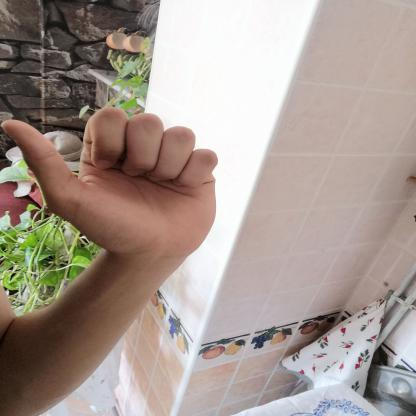DAD: (0, 98, 238, 273)
